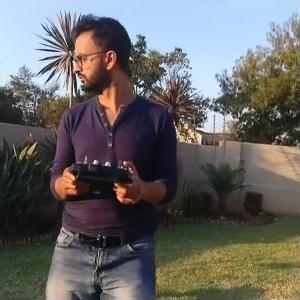follow: (37, 9, 180, 298)
